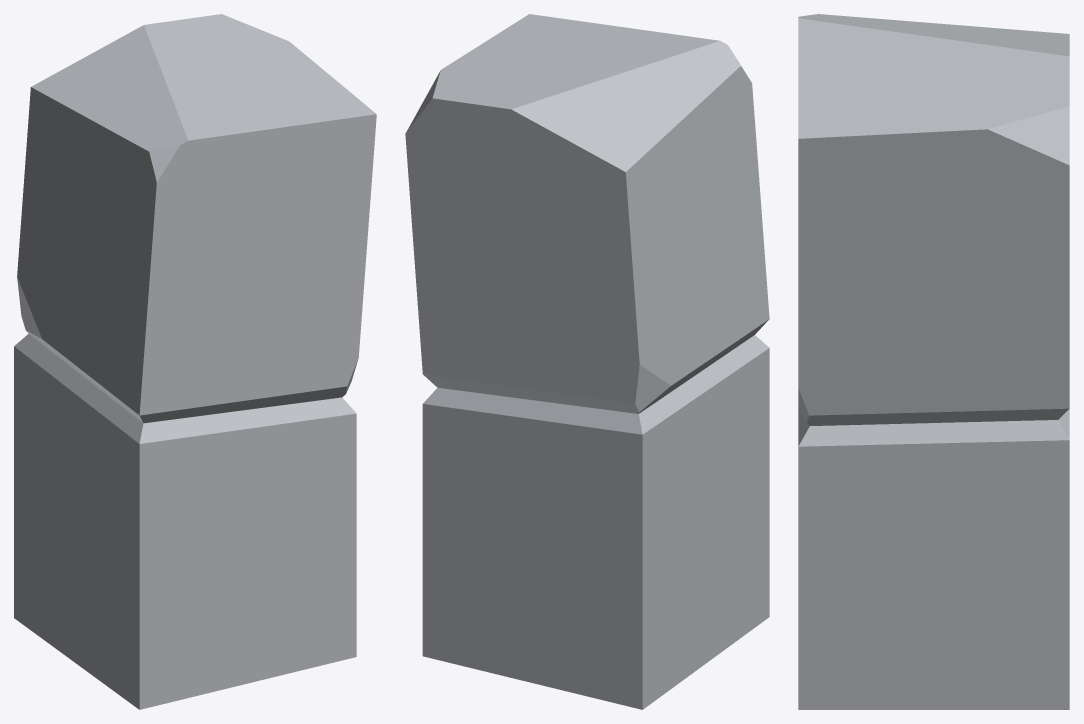
File: Rock_Square_m_20.fbx
The picture shows the model from 3 angles, left to right: view 1: azimuth 30°, elevation 25°; view 2: azimuth 150°, elevation 25°; view 3: azimuth 270°, elevation 25°; orthographic projection. The views are drawn at different scales.
Parts seen in each view (by area): view 1: Rock_Square_m_20; view 2: Rock_Square_m_20; view 3: Rock_Square_m_20.
Boxes of the visible parts, <box> form: Rock_Square_m_20: <box>14,14,376,709</box>; Rock_Square_m_20: <box>405,14,769,709</box>; Rock_Square_m_20: <box>798,14,1069,709</box>.
Bounding box in the file's own units: 47.19 × 107 × 43.2.
